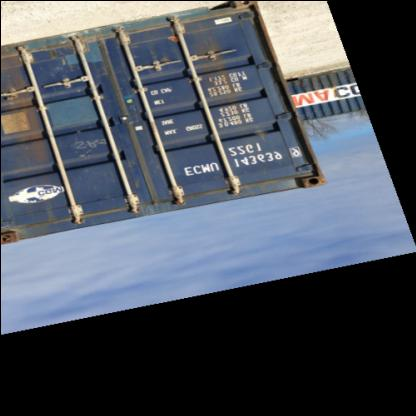Damage: (3, 49, 40, 163), (47, 35, 92, 84), (66, 134, 108, 166), (194, 36, 224, 76), (294, 164, 324, 192), (37, 200, 62, 230), (142, 53, 170, 78), (252, 121, 272, 151), (0, 223, 16, 247)
